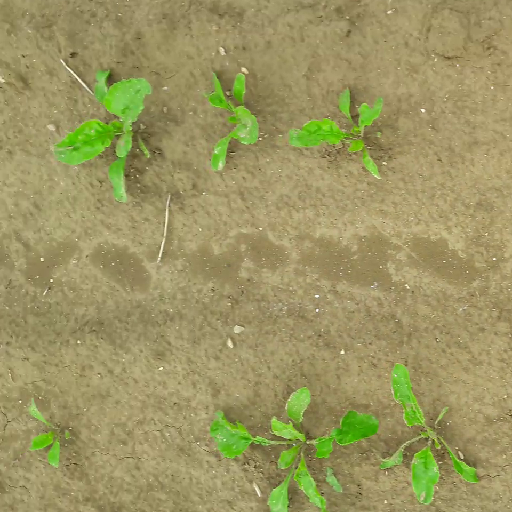sugarbeet: (204, 379, 384, 512), (41, 65, 157, 205), (371, 360, 482, 504), (285, 90, 389, 183), (200, 67, 264, 170), (21, 393, 78, 470)
